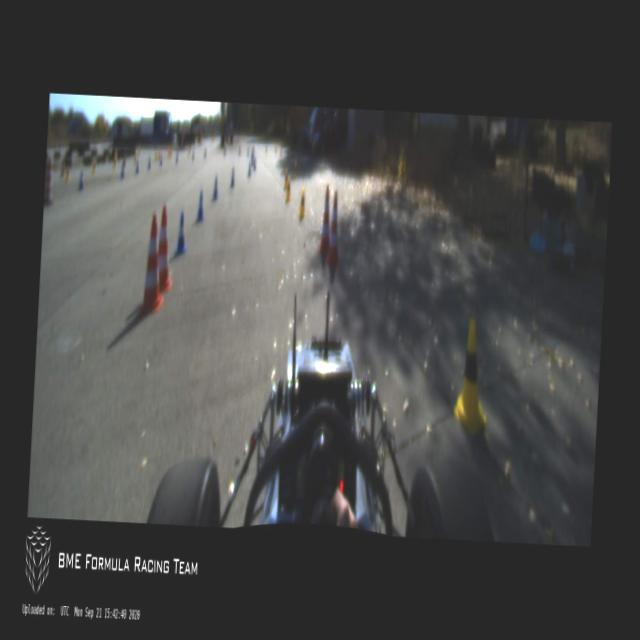blue_cone: (175, 210, 188, 256), (196, 187, 206, 223), (210, 176, 220, 202), (229, 166, 236, 188), (78, 170, 85, 190), (247, 162, 252, 178), (120, 163, 125, 179), (252, 157, 256, 170)
large_orange_cone: (140, 212, 170, 313), (156, 206, 176, 292), (327, 190, 342, 266), (318, 185, 332, 254)
yellow_cone: (452, 318, 492, 435), (298, 186, 306, 218), (286, 175, 292, 203), (64, 165, 70, 182), (284, 167, 288, 190), (294, 162, 298, 178)
